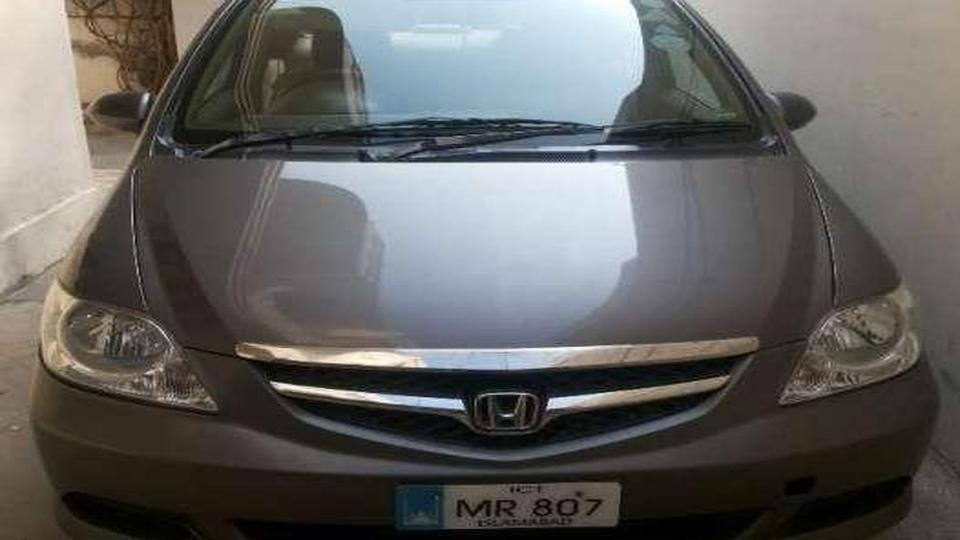NumberPlate: (367, 470, 641, 539)
